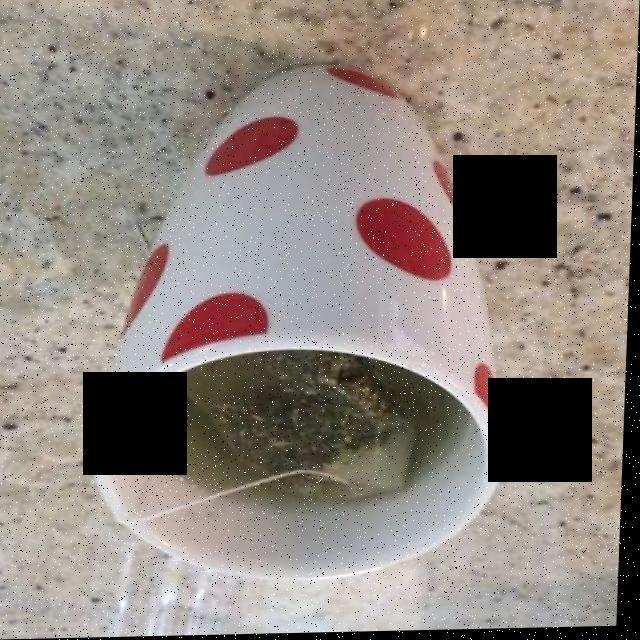tea: (153, 358, 452, 511)
